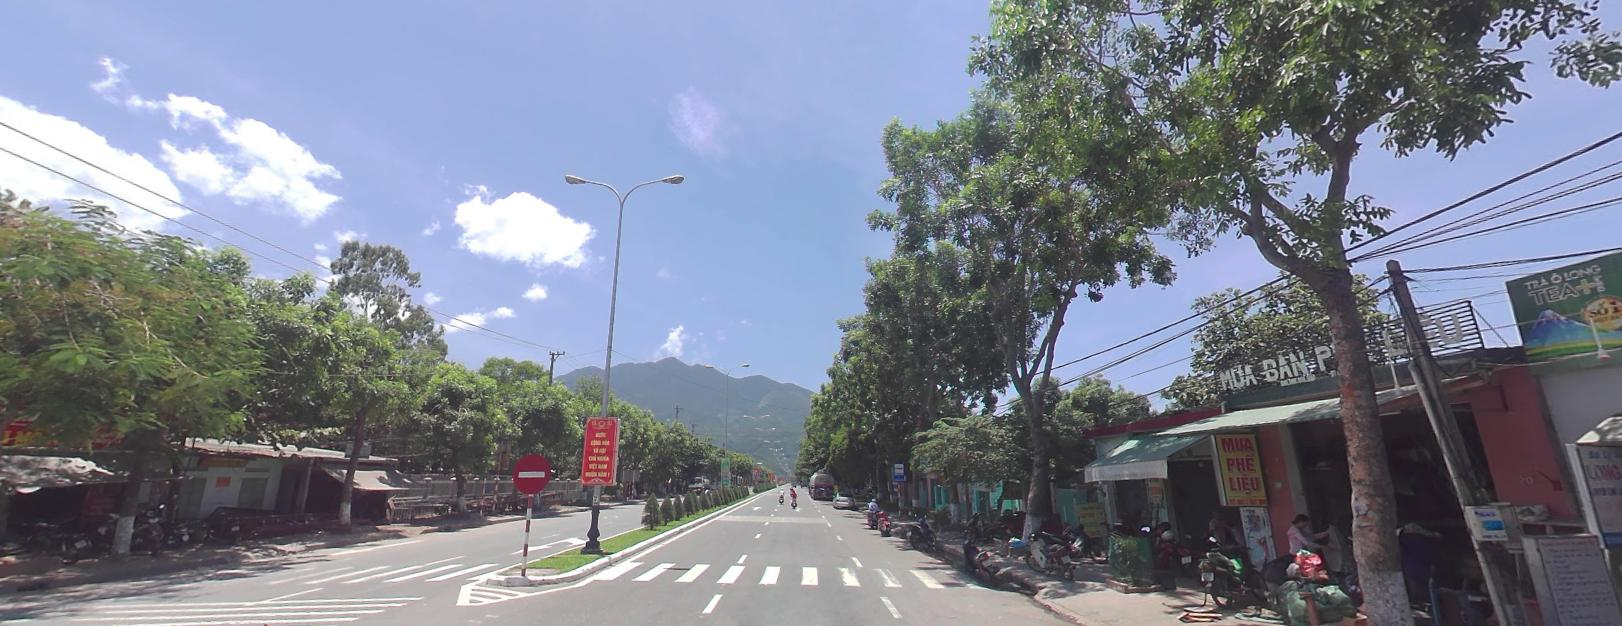Cam nguoc chieu: (513, 452, 550, 491)
